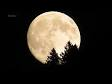moon: (23, 11, 84, 62)
